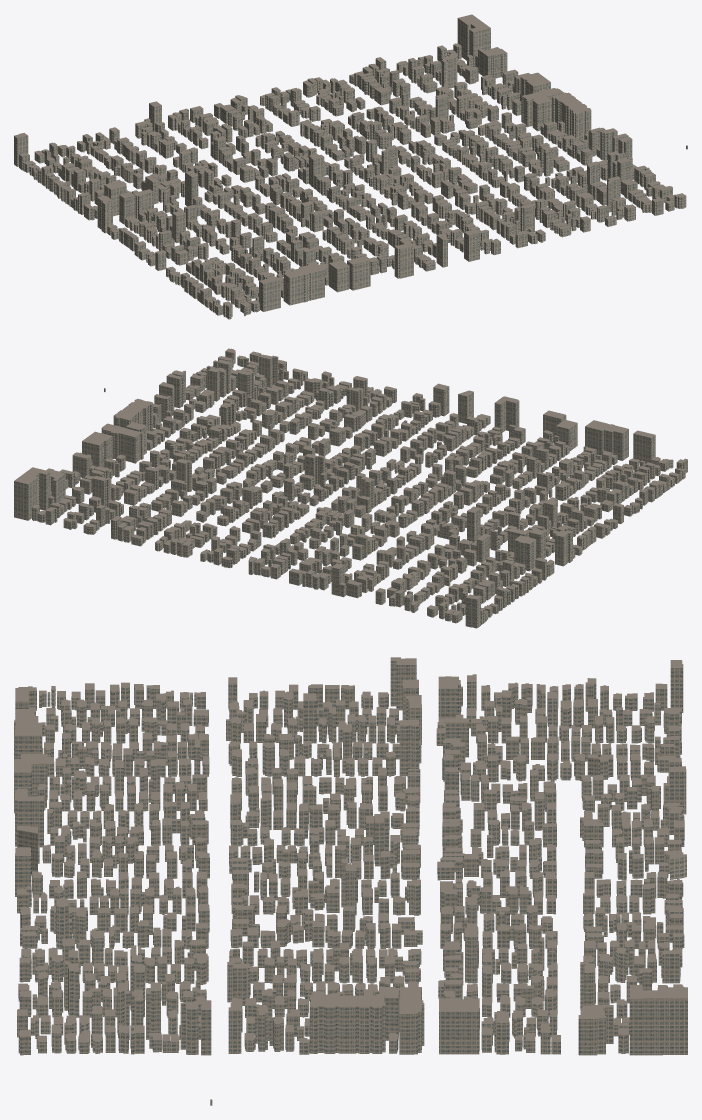
File: city2.glb
The picture shows the model from 3 angles, top to bottom: view 1: azimuth 30°, elevation 25°; view 2: azimuth 150°, elevation 25°; view 3: azimuth 270°, elevation 25°; orthographic projection. The views are drawn at different scales.
Visible parts, largest first — view 1: map_4.osm_buildings; view 2: map_4.osm_buildings; view 3: map_4.osm_buildings.
Part boxes in pixels (x1=…): map_4.osm_buildings: x1=14, y1=14, x2=686, y2=319; map_4.osm_buildings: x1=14, y1=348, x2=687, y2=628; map_4.osm_buildings: x1=14, y1=657, x2=687, y2=1055.
Size of the model in its own units: 886 by 61.35 by 631.
Materials: 3 (2 with a texture image).
